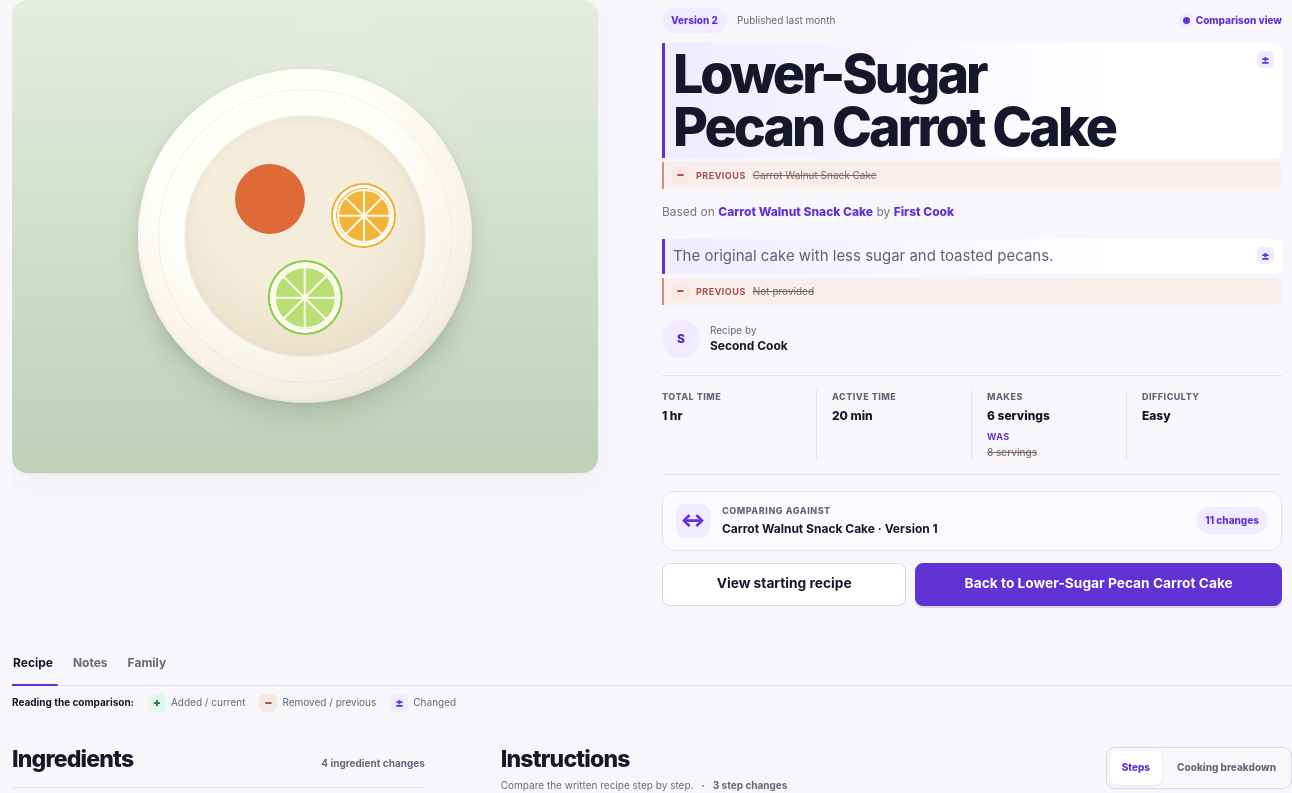
Test: RecipeDiffView › presents the complete current recipe with comparison context in cooking order
Expected: the heading "Lower-Sugar Pecan Carrot Cake" is shown, [673,41,1115,159]
Expected: the text "The original cake with less sugar and toasted pecans." is shown, [673,246,1053,265]
Step 1. Click the tab "Notes" → (90, 670), box [72,654,109,685]
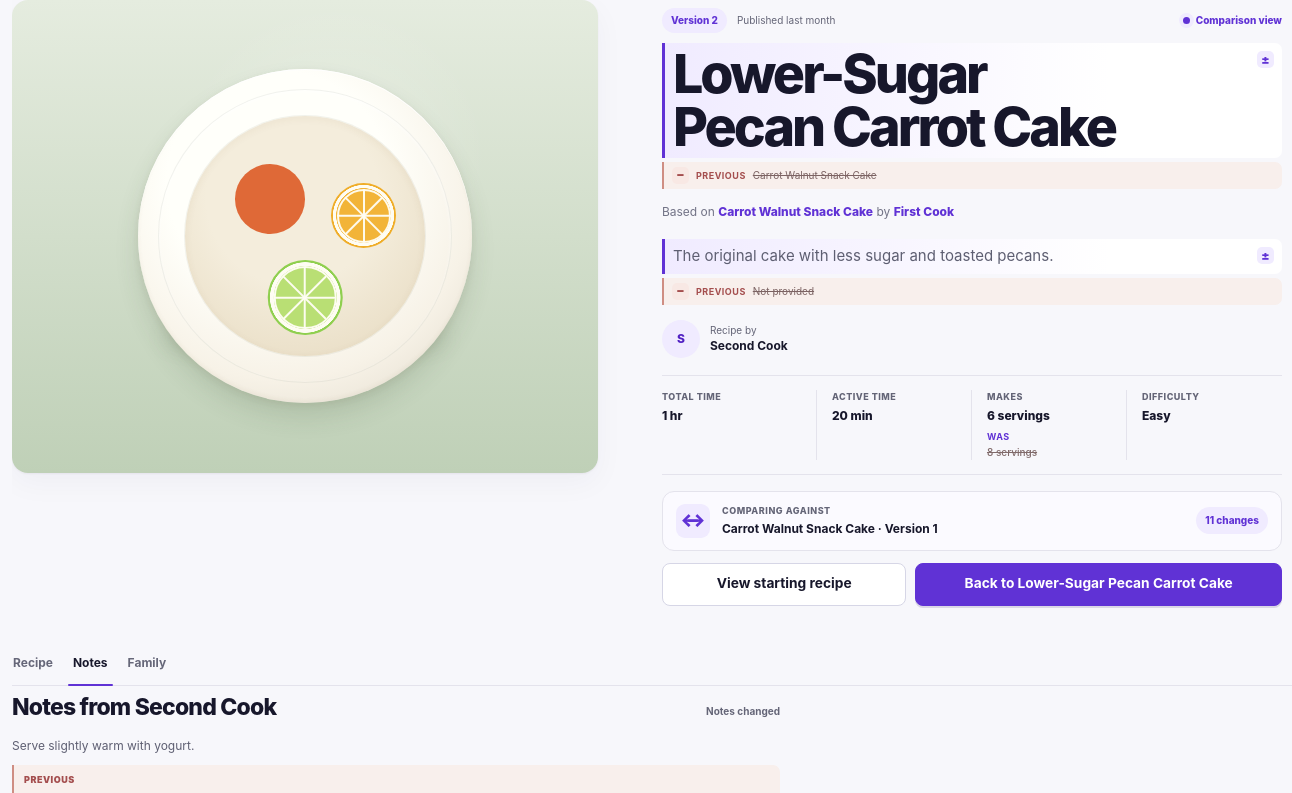
Expected: the heading "Notes from Second Cook" is shown, [12,694,276,720]
Expected: the text "Notes changed" is shown, [706,704,780,718]
Expected: the text "Serve slightly warm with yogurt." is shown, [12,738,194,753]
Step 2. Click the tab "Family" → (147, 670), box [127,654,167,685]
(page scrolled)
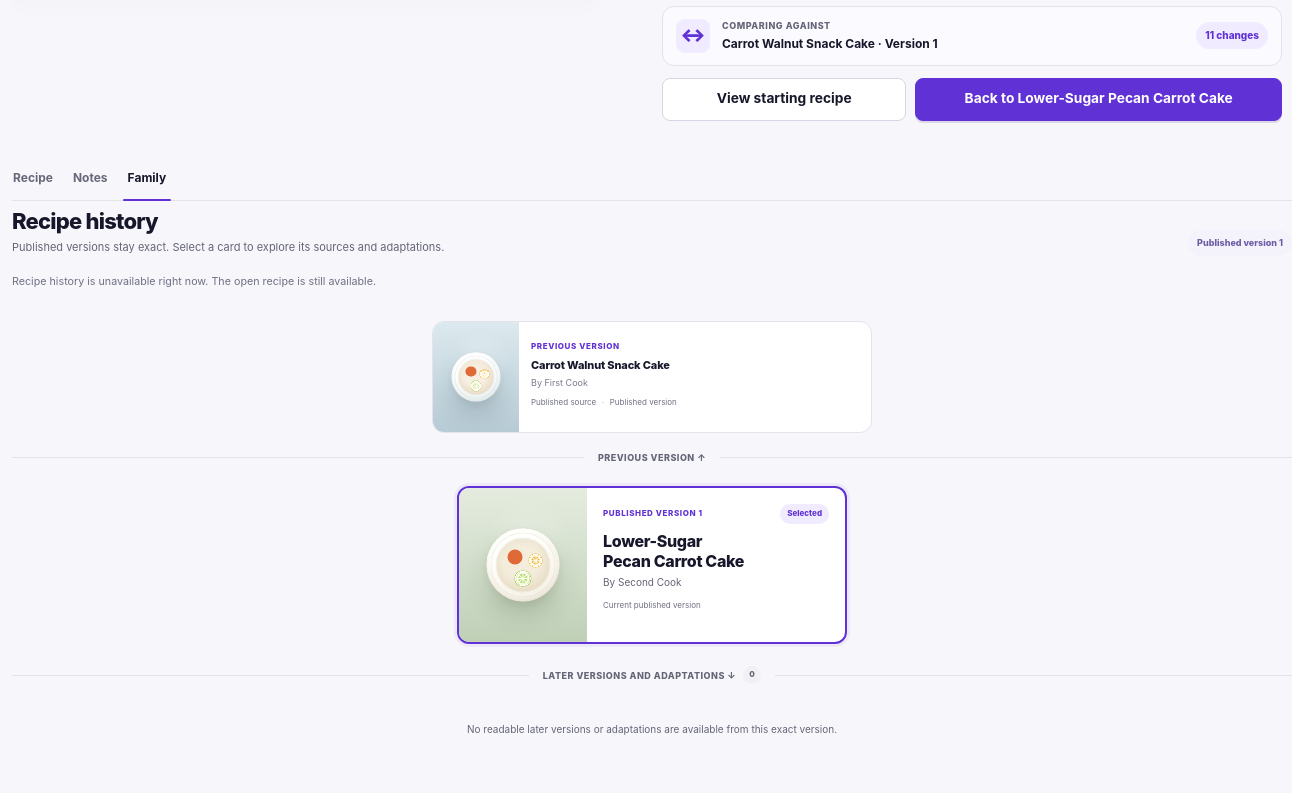
Expected: the heading "Recipe history" is shown, [12,208,158,234]
